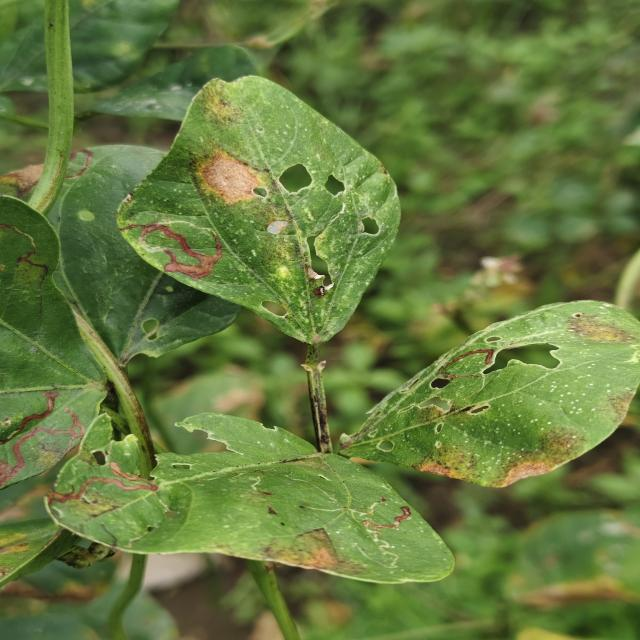leaf-moderate: (119, 76, 400, 345), (45, 413, 454, 583), (341, 301, 640, 487)
sitaw-aphid-low: (0, 195, 107, 489), (53, 259, 199, 437), (0, 523, 77, 585)
sitaw-healthy: (25, 0, 74, 215)
